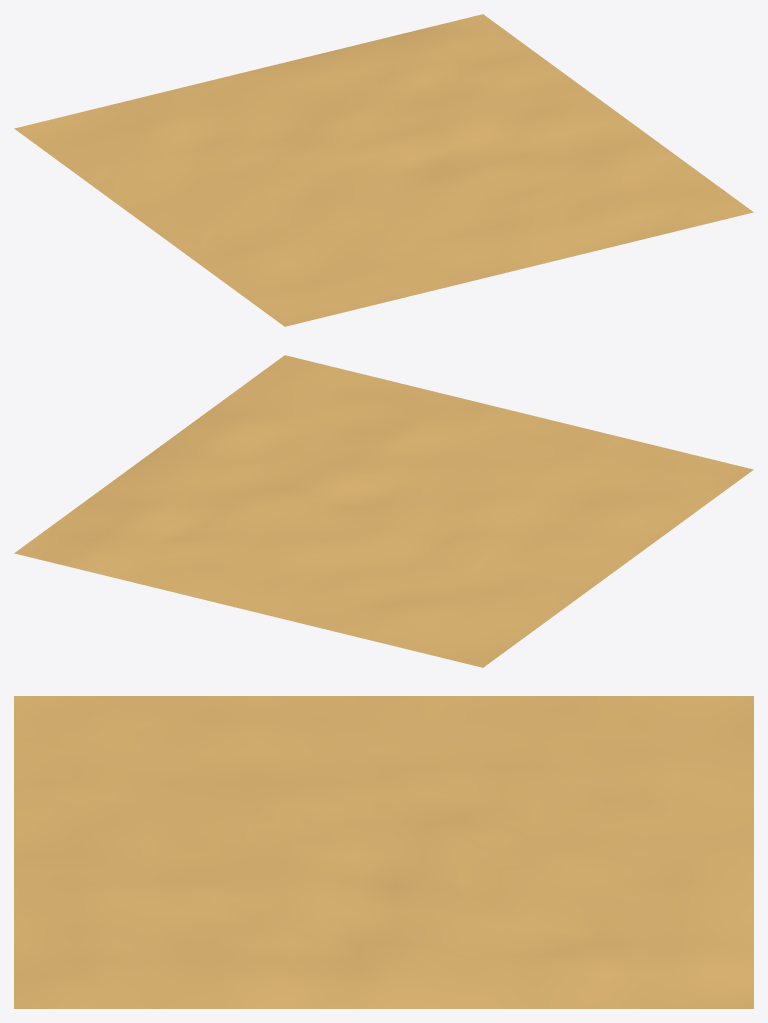
File: Piso.fbx
3 views of the same model, one above another, from view 1: azimuth 30°, elevation 25°; view 2: azimuth 150°, elevation 25°; view 3: azimuth 270°, elevation 25° (orthographic). The views are drawn at different scales.
Parts seen in each view (by area): view 1: arena1; view 2: arena1; view 3: arena1.
Part boxes in pixels (left/top/right/bottom): arena1: left=14, top=14, right=753, bottom=326; arena1: left=14, top=355, right=753, bottom=667; arena1: left=14, top=696, right=753, bottom=1008.
Bounding box in the file's own units: 8 × 0.1094 × 8.
